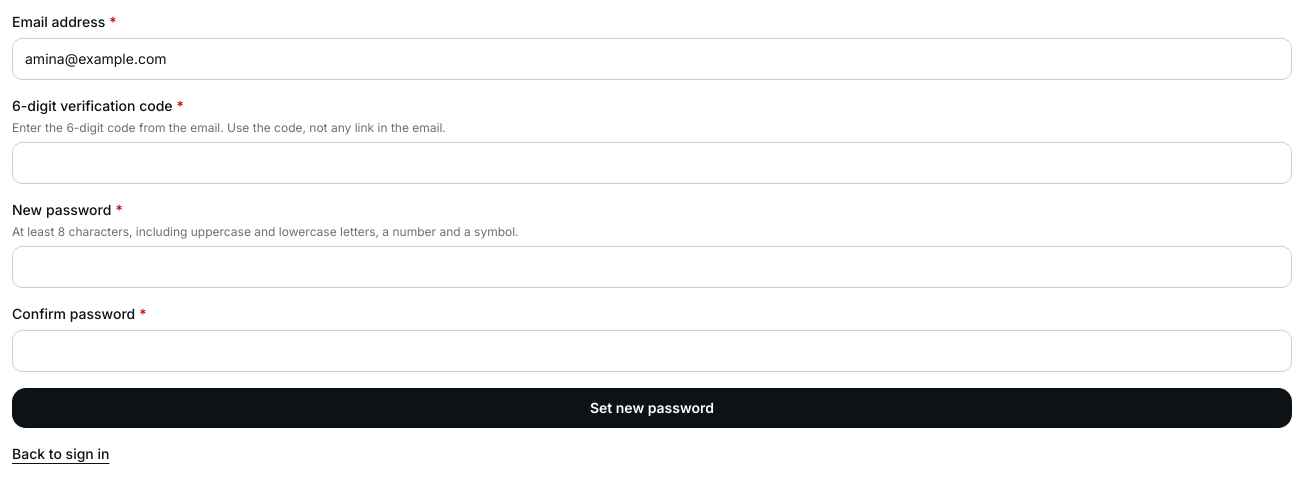
ResetPasswordForm › pre-fills the email and submits the code and new password
Expected: the field labelled "Email address*" holds "amina@example.com", [12,38,1292,80]
Type "123456" into the field labelled "6-digit verification code*".
click(652, 163); type("123456")  # box [12,142,1292,184]
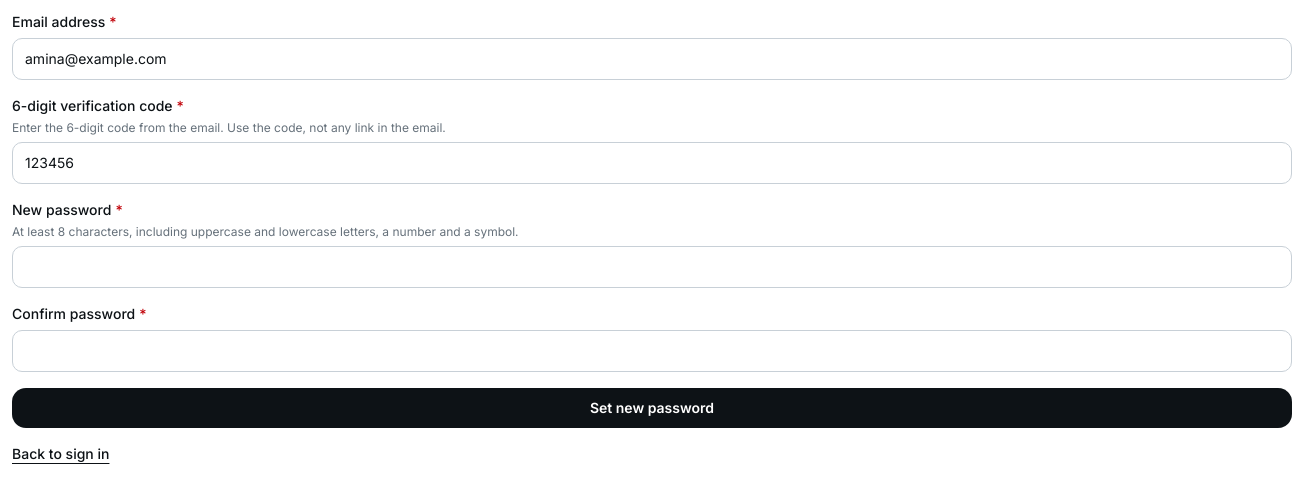
Type "Correct-horse1" into the password field labelled "New password*".
click(652, 267); type("Correct-horse1")  # box [12,246,1292,288]
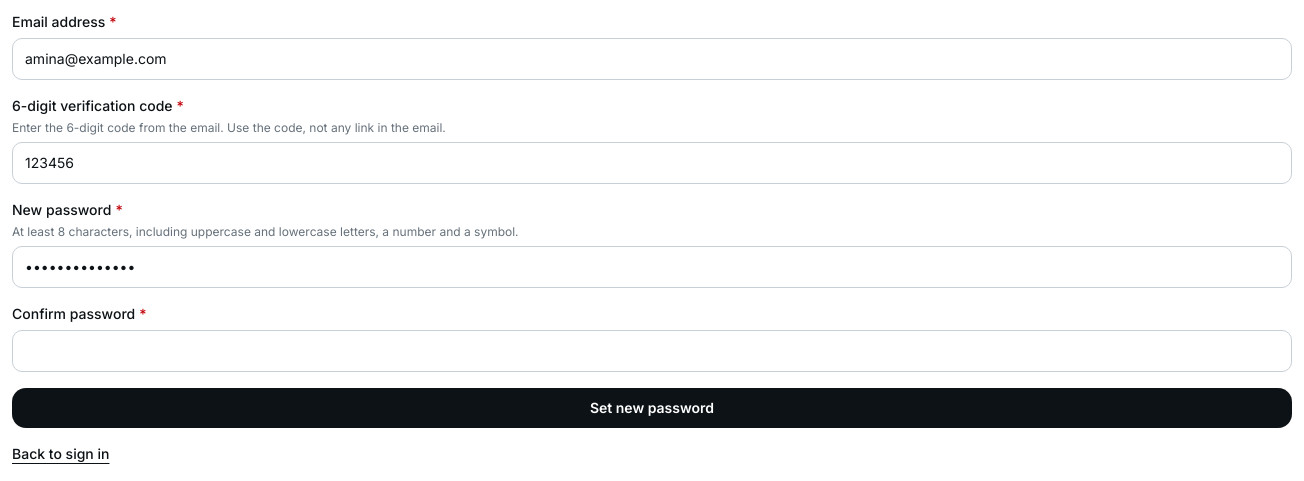
Type "Correct-horse1" into the password field labelled "Confirm password*".
click(652, 351); type("Correct-horse1")  # box [12,330,1292,372]
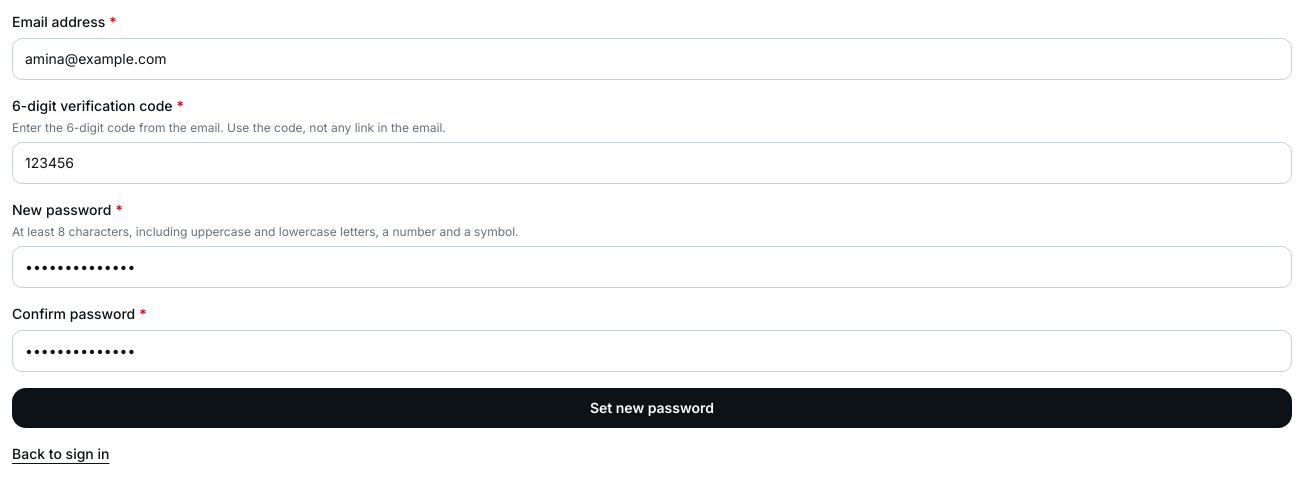
Submit the form named "Set new password"
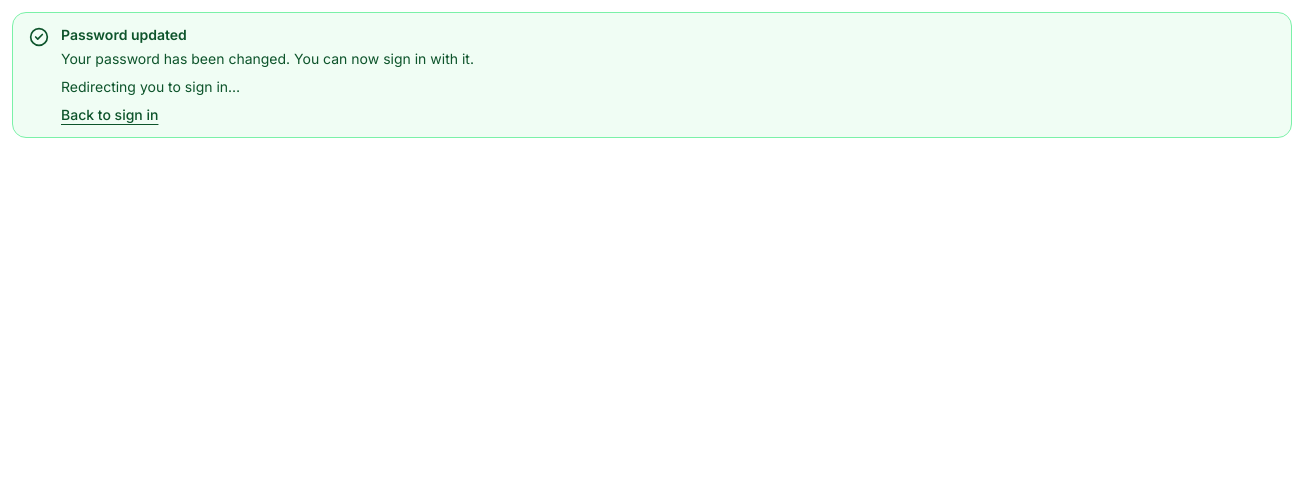
Now the text "Password updated" is shown, box [61,26,187,43]
